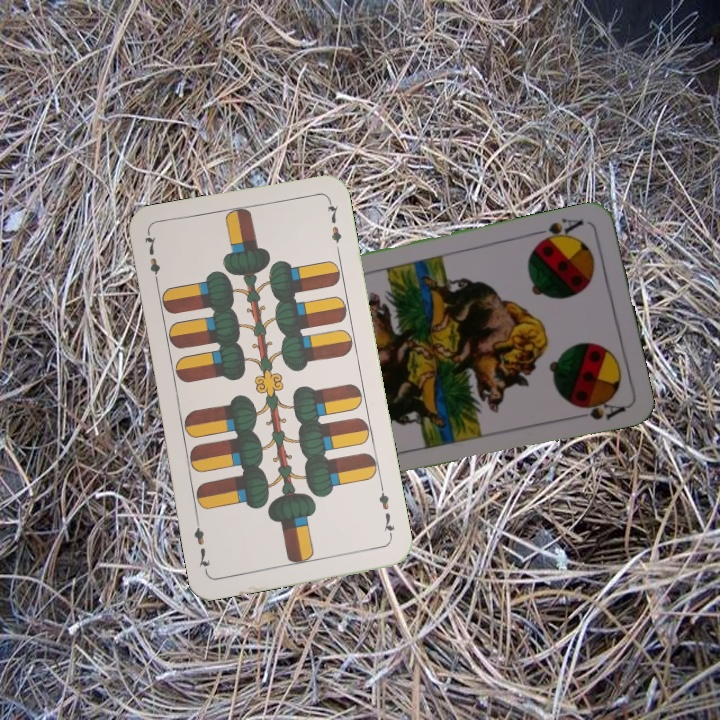E7: (374, 483, 398, 541), (140, 230, 163, 289)
SA: (531, 214, 586, 248)
